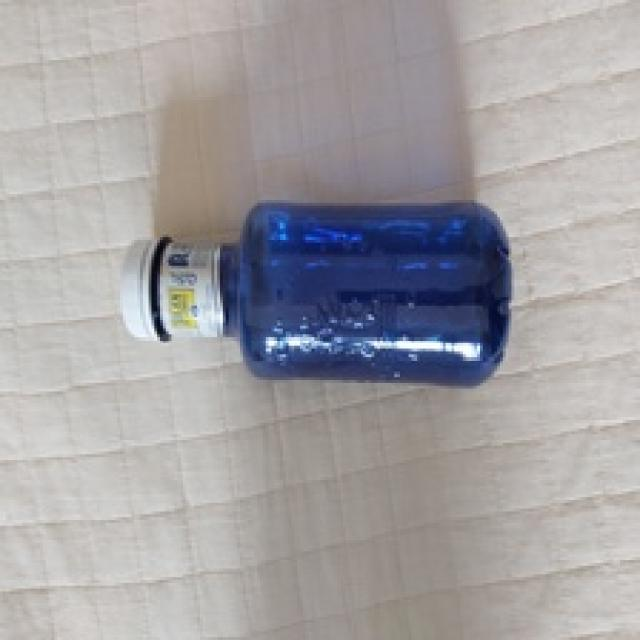Plastic: (121, 202, 512, 386)
